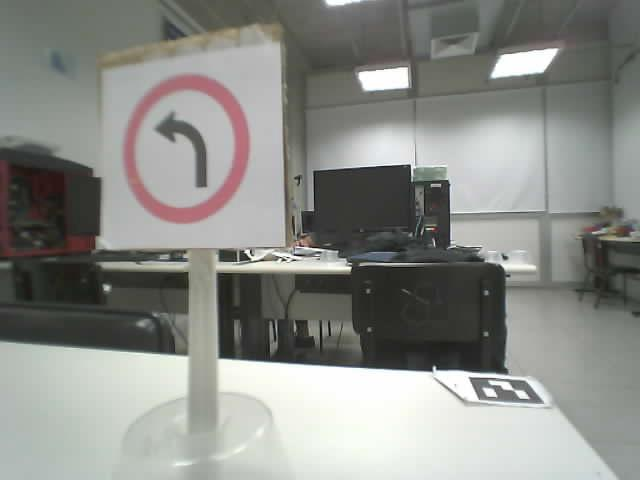R-25a_esquerda: (121, 72, 252, 224)
